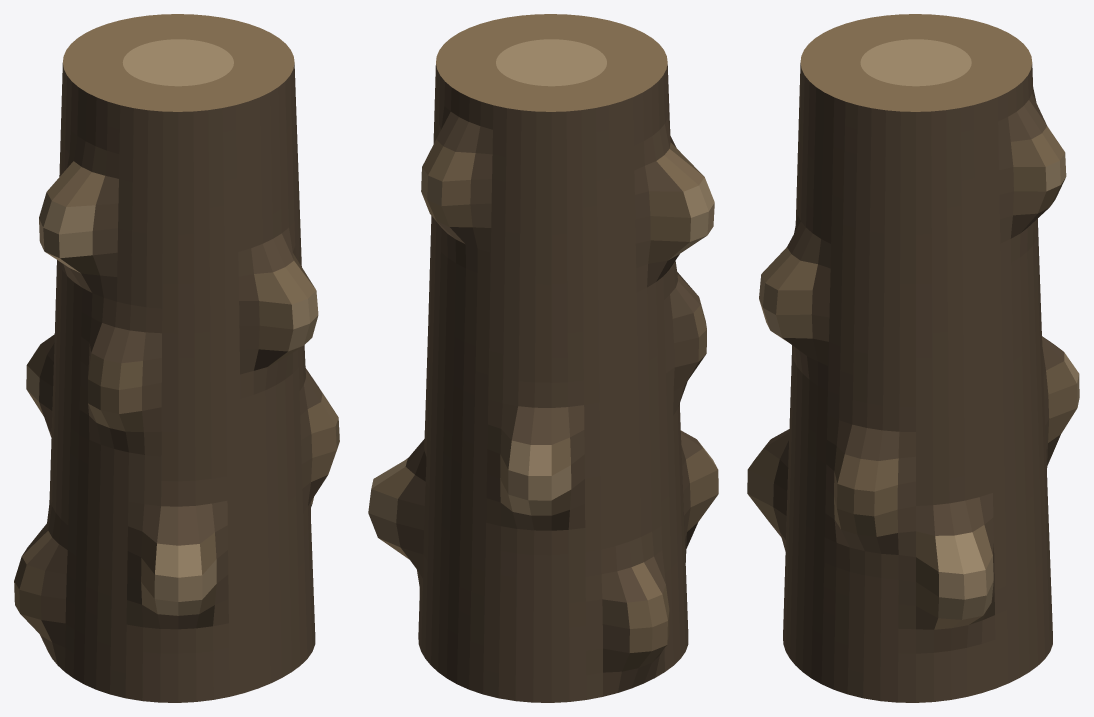
File: weichselia.glb
3 views of the same model, side by side, from view 1: azimuth 30°, elevation 25°; view 2: azimuth 150°, elevation 25°; view 3: azimuth 270°, elevation 25° (orthographic).
Visible parts, largest first — view 1: Single stem cortex and integrated attachment bosses; view 2: Single stem cortex and integrated attachment bosses; view 3: Single stem cortex and integrated attachment bosses.
Boxes of the visible parts, <box> form: Single stem cortex and integrated attachment bosses: <box>14,14,339,702</box>; Single stem cortex and integrated attachment bosses: <box>368,14,718,702</box>; Single stem cortex and integrated attachment bosses: <box>747,14,1079,702</box>.
Size of the model in its own units: 0.1635 by 0.3 by 0.1553.
